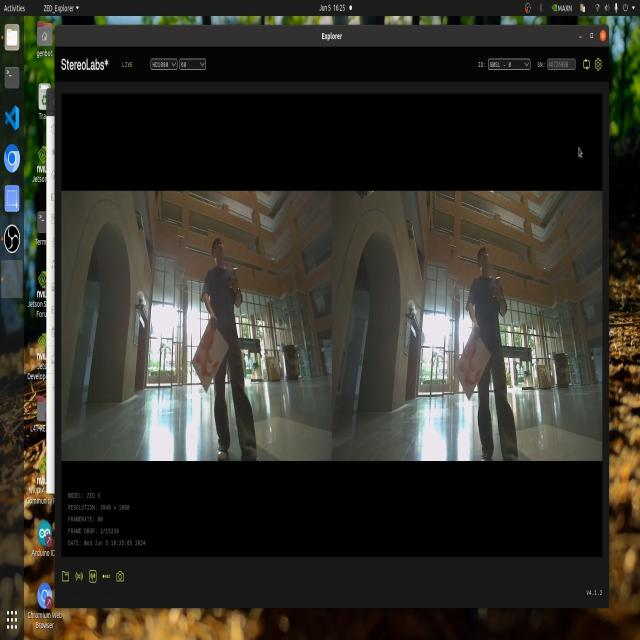red: (190, 333, 220, 390), (460, 338, 483, 393)
